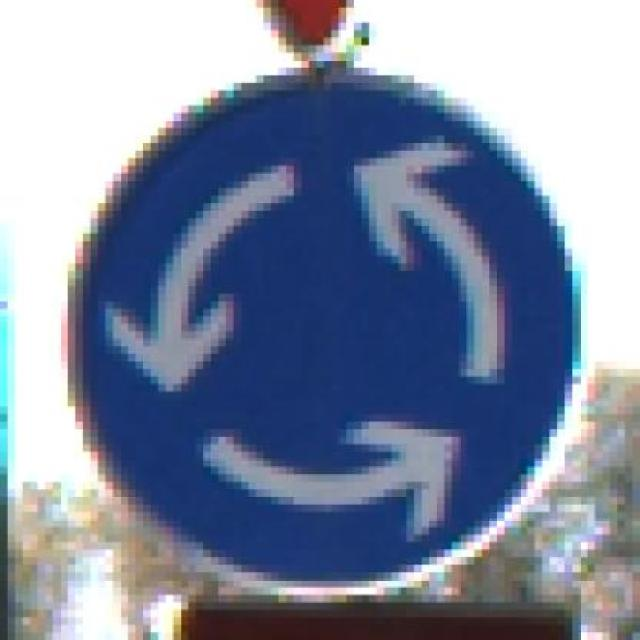Round-About: (30, 60, 610, 588)
